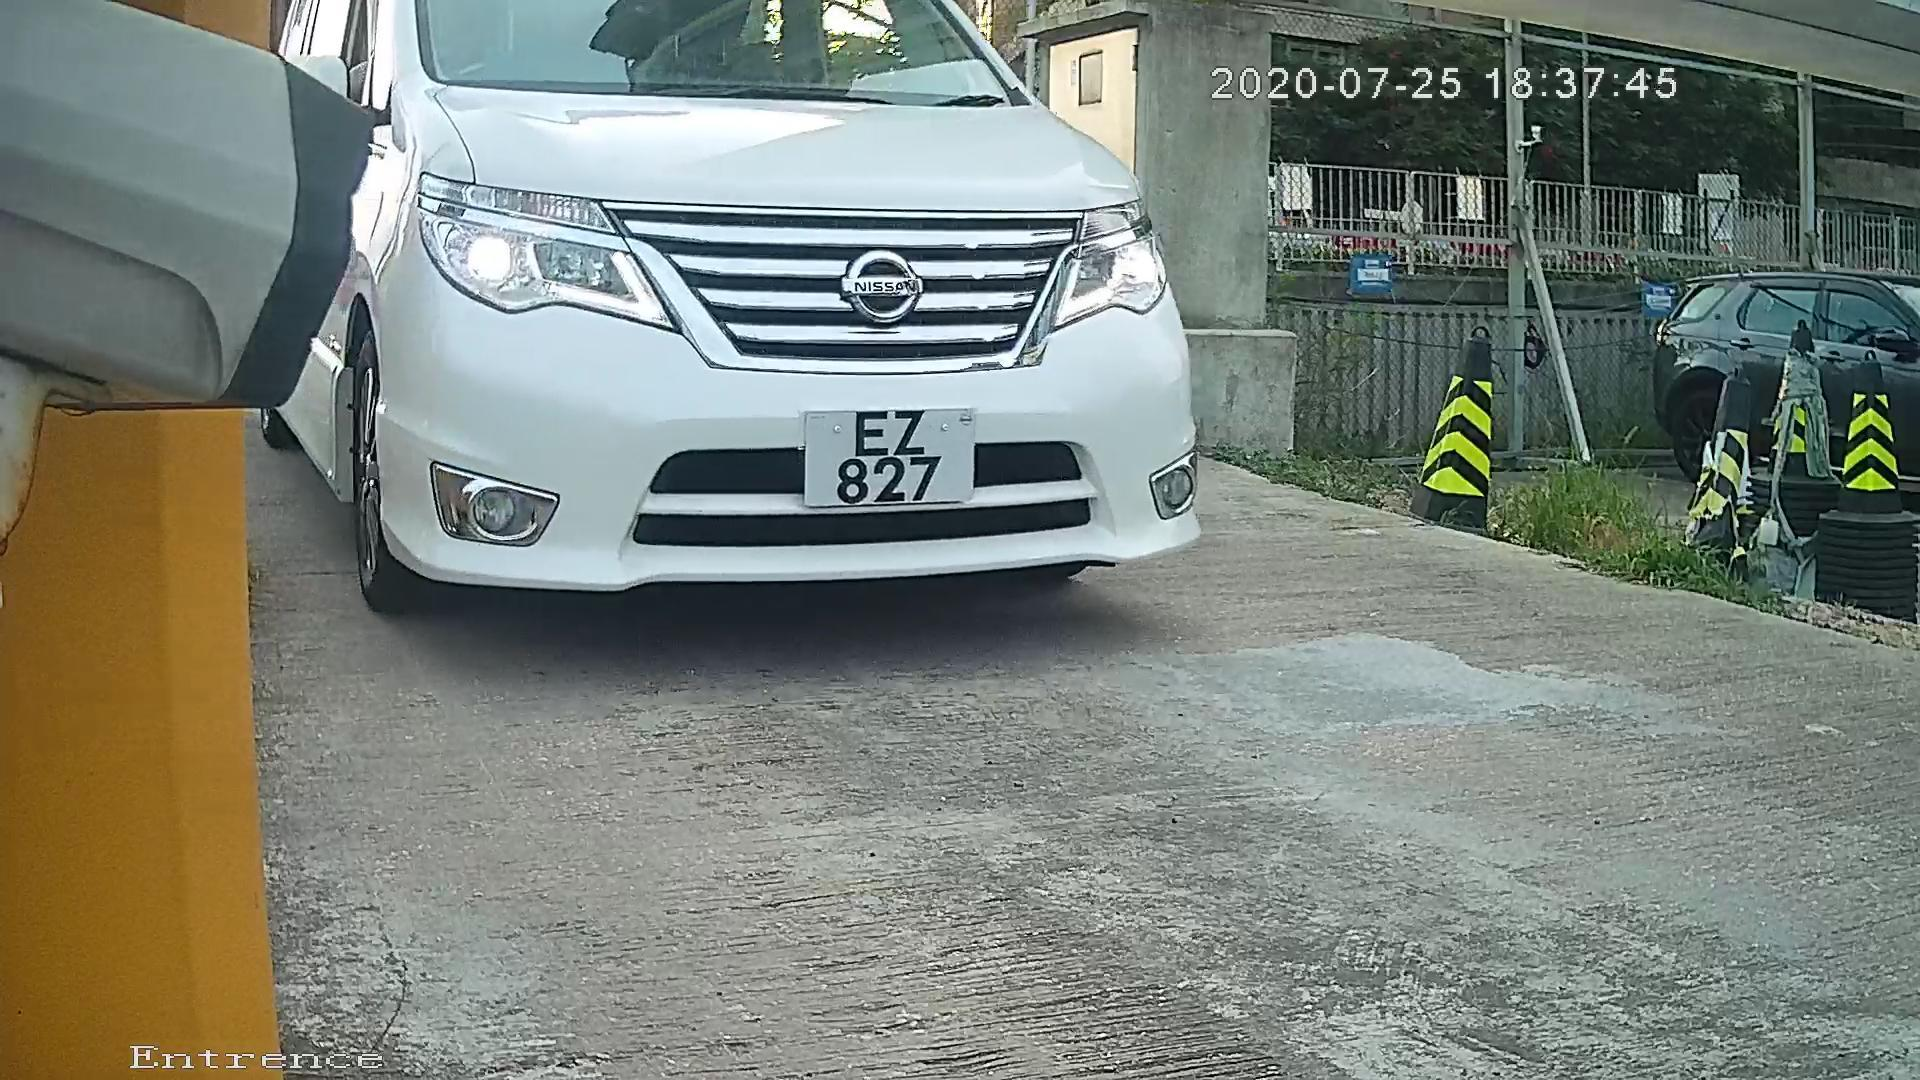privatecar: (258, 1, 1346, 651)
